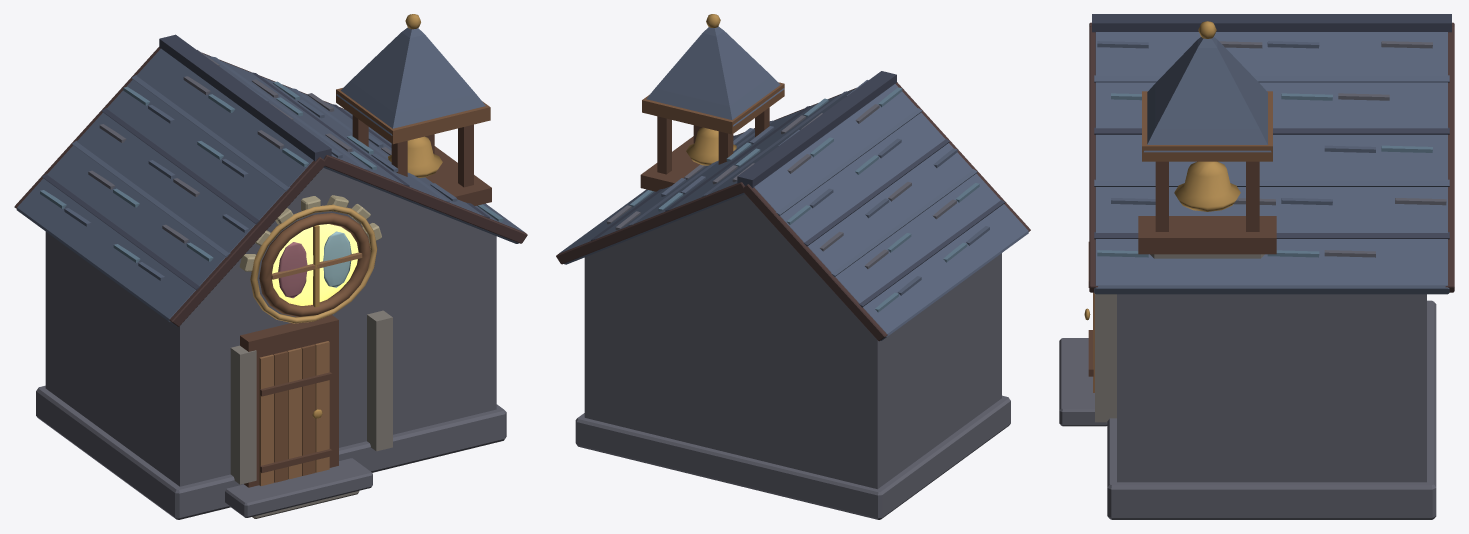
Rendered from village_house_4.glb.
3 views of the same model, side by side, from view 1: azimuth 30°, elevation 25°; view 2: azimuth 150°, elevation 25°; view 3: azimuth 270°, elevation 25° (orthographic). The views are drawn at different scales.
Visible parts, largest first — view 1: village_house_4; view 2: village_house_4; view 3: village_house_4.
Part boxes in pixels (x1,y1,x2,y2): village_house_4: [14, 14, 527, 519]; village_house_4: [556, 14, 1030, 519]; village_house_4: [1059, 14, 1454, 519].
Bounding box in the file's own units: 2.2 × 2.4 × 1.83.
